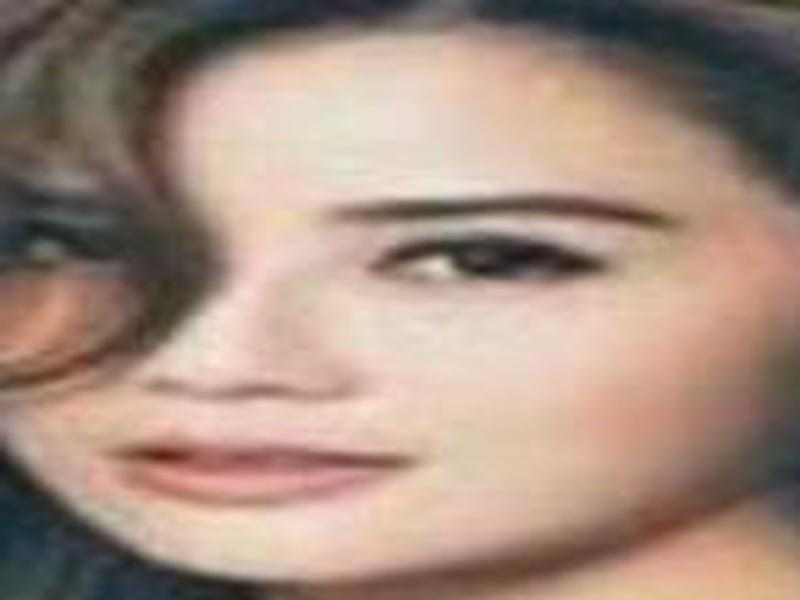without_mask: (2, 70, 782, 582)
